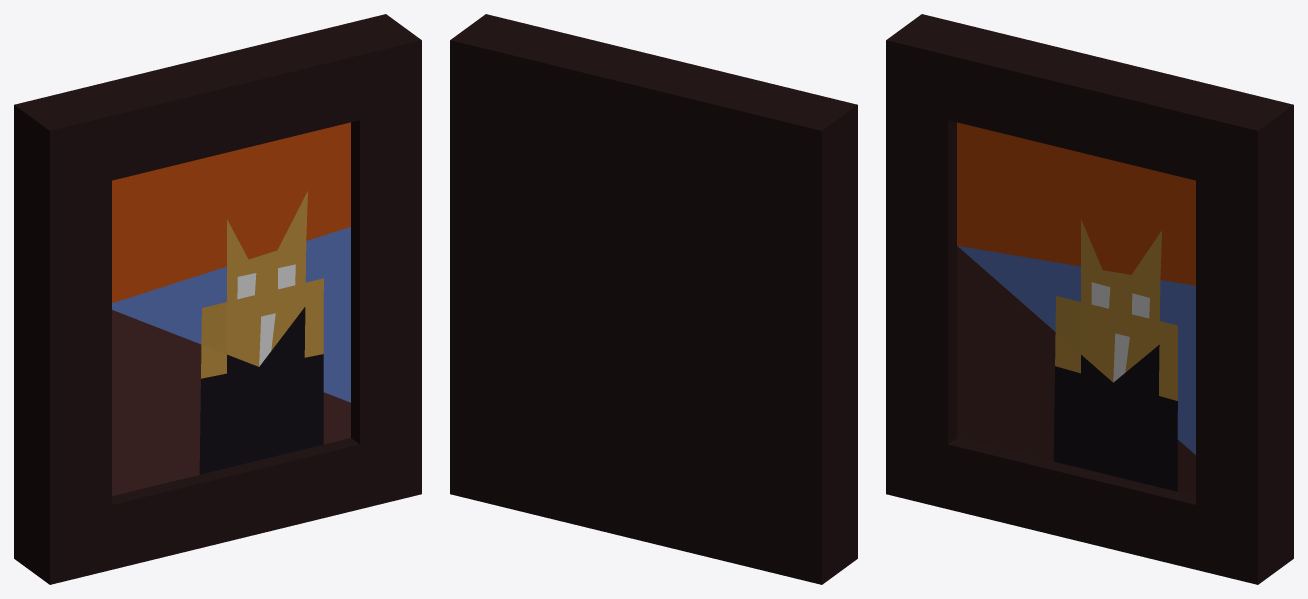
File: painting_scream.dae
3 renders of one model, left to right at view 1: azimuth 30°, elevation 25°; view 2: azimuth 150°, elevation 25°; view 3: azimuth 330°, elevation 25°, orthographic.
Parts seen in each view (by area): view 1: painting_scream_MSH; view 2: painting_scream_MSH; view 3: painting_scream_MSH.
Part boxes in pixels (left/top/right/bottom): painting_scream_MSH: left=14, top=14, right=421, bottom=584; painting_scream_MSH: left=450, top=14, right=857, bottom=584; painting_scream_MSH: left=886, top=14, right=1293, bottom=584.
Bounding box in the file's own units: 0.75 × 0.875 × 0.125.
